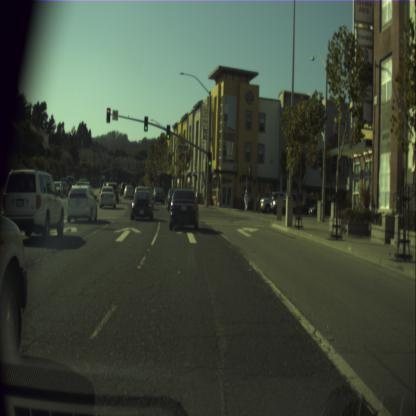Green: (208, 152, 212, 168), (166, 124, 170, 139), (144, 116, 147, 131)
RedLeft: (106, 108, 110, 122)
